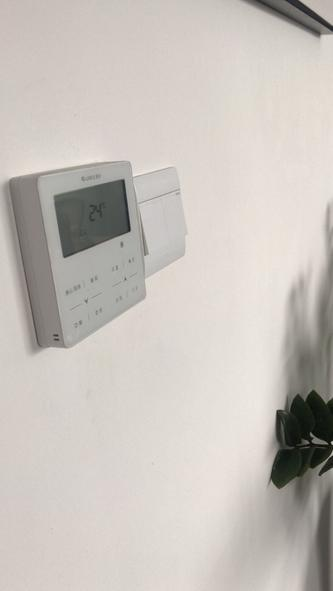switch: (136, 190, 196, 253)
